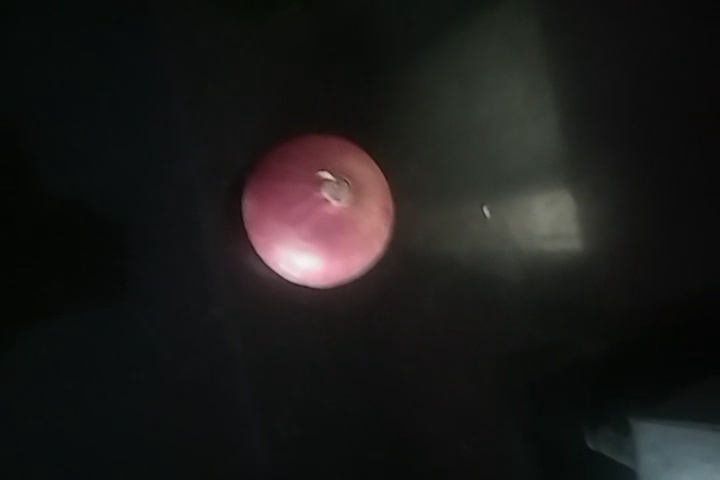onion: (223, 133, 398, 292)
